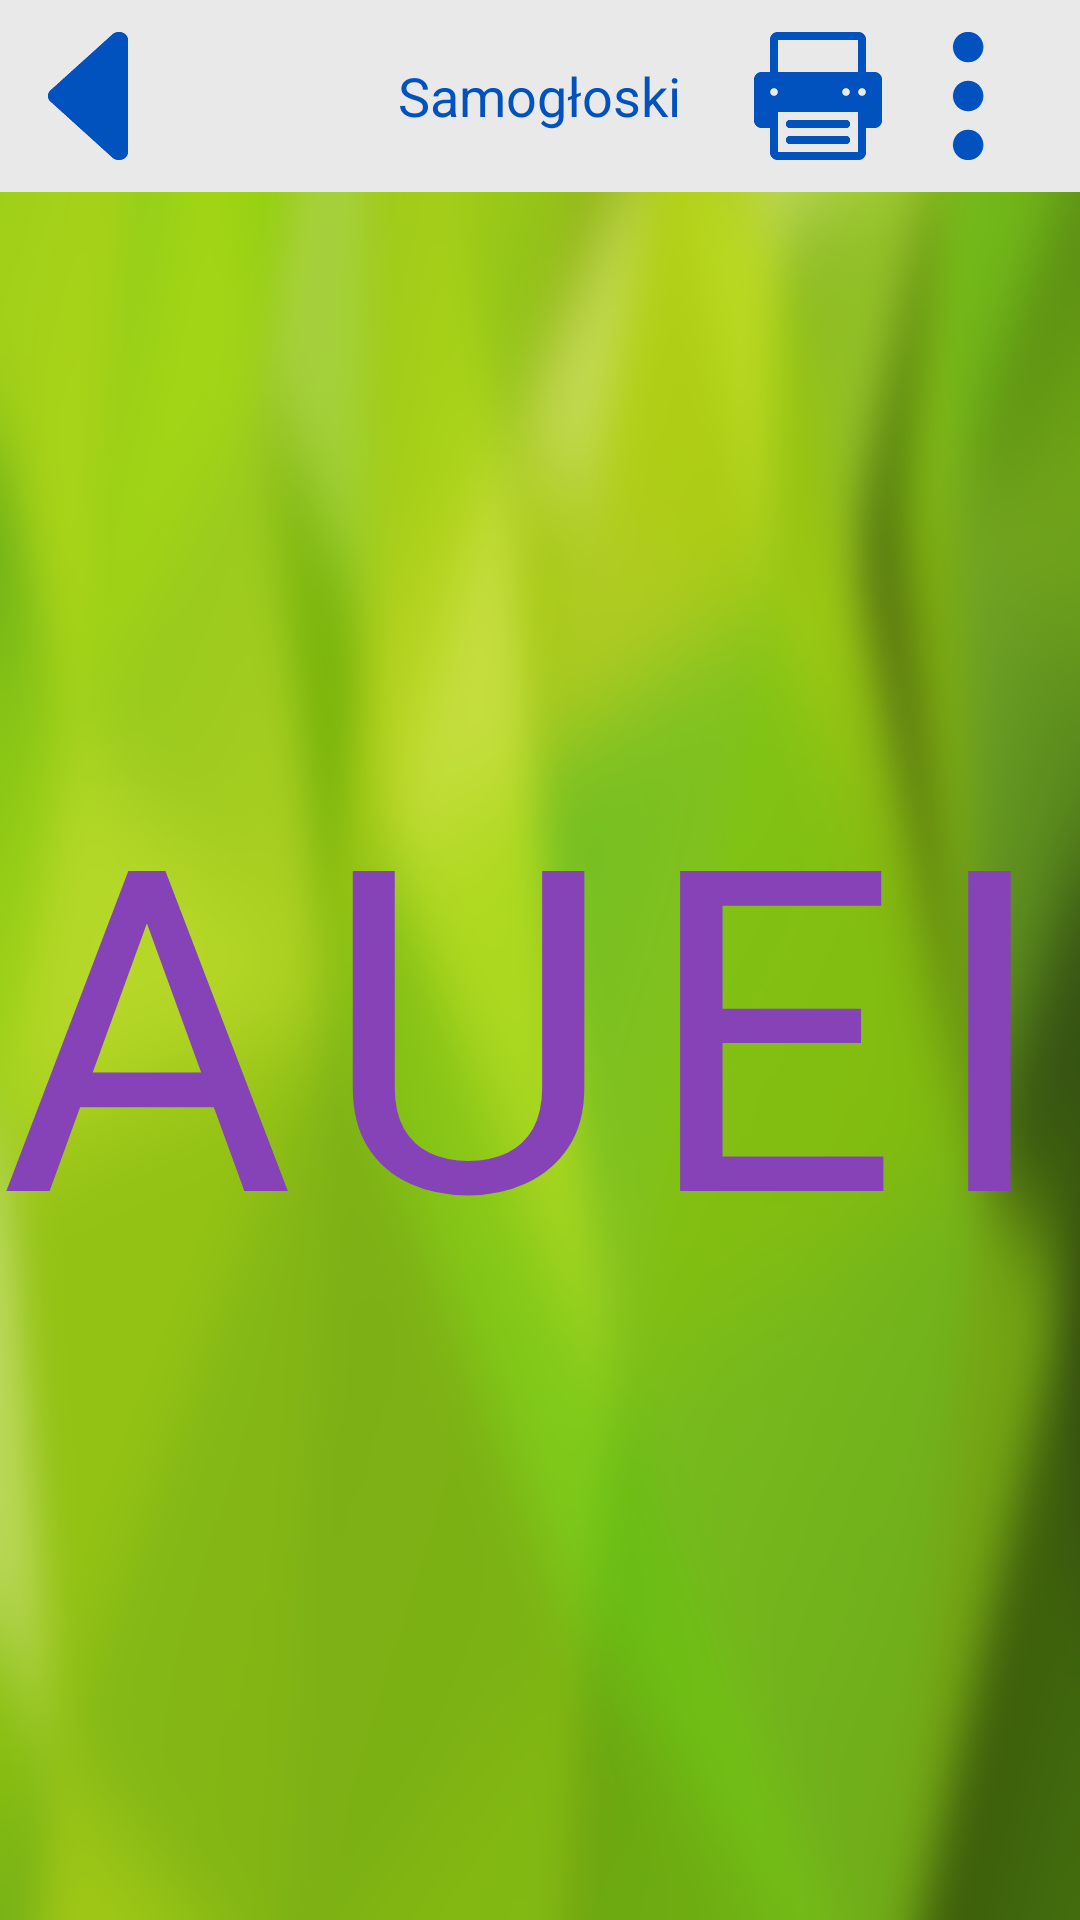

Named icons in this screenshot (1080 × 1920) and their bounding boxes, (x1, y1, x2, y2):
Przycisk powrotu: (48, 32, 128, 160)
Przycisk wydruku: (754, 32, 882, 160)
